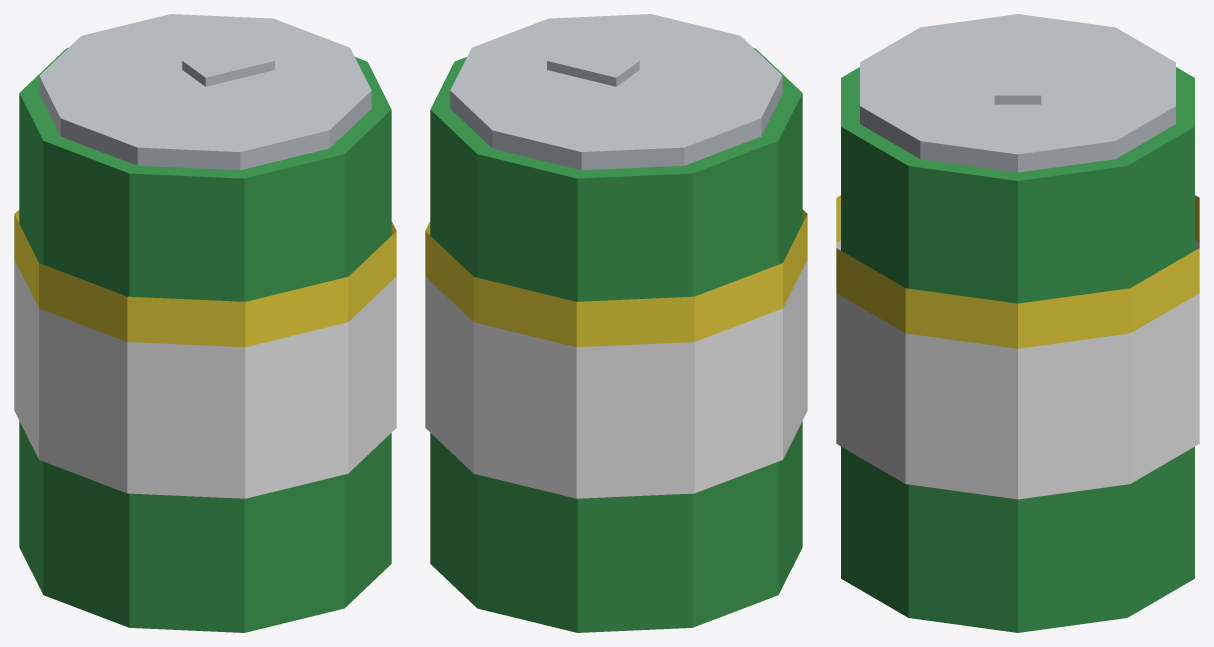
The model's file is Food_LimeSoda.obj.
3 renders of one model, left to right at view 1: azimuth 30°, elevation 25°; view 2: azimuth 150°, elevation 25°; view 3: azimuth 270°, elevation 25°, orthographic.
Size of the model in its own units: 1.15 by 1.62 by 1.09.
